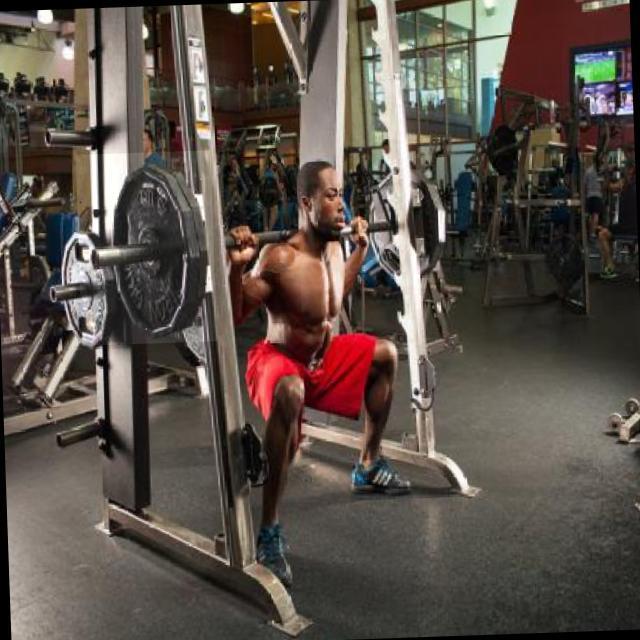barbell: (76, 151, 218, 347)
